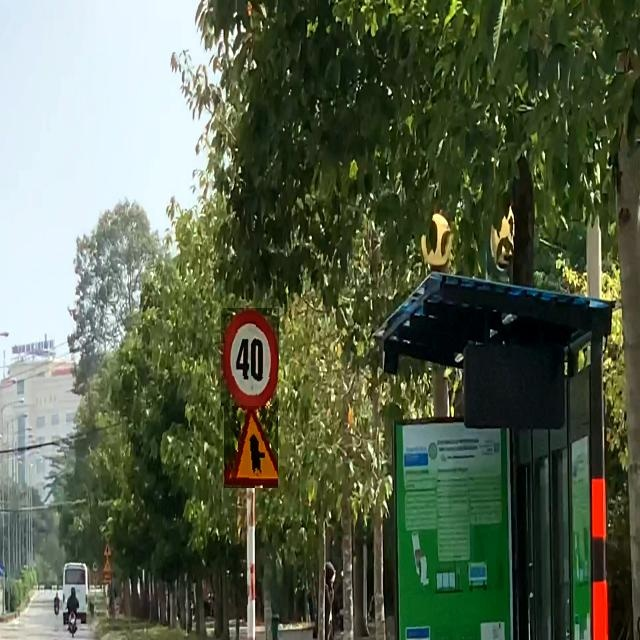bien_cam: (221, 308, 279, 406), (224, 406, 278, 488)
